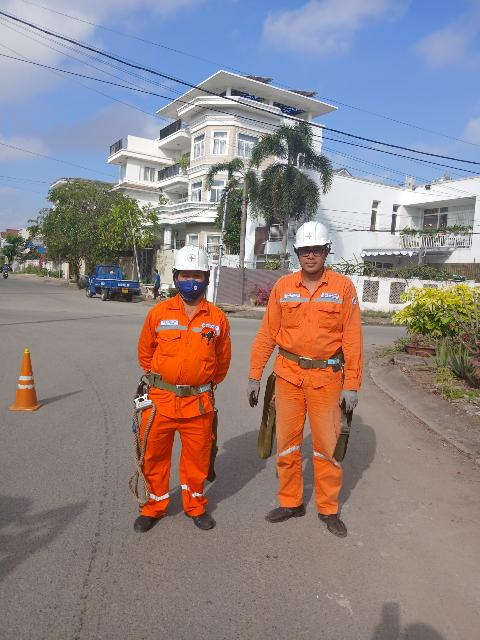gloves: (339, 383, 363, 419), (236, 376, 258, 414)
harness: (258, 337, 347, 374), (137, 365, 214, 401)
helmet: (290, 215, 341, 255), (167, 238, 217, 276)
shoes: (129, 500, 167, 536), (317, 504, 352, 542), (183, 501, 221, 534), (268, 497, 308, 525)
